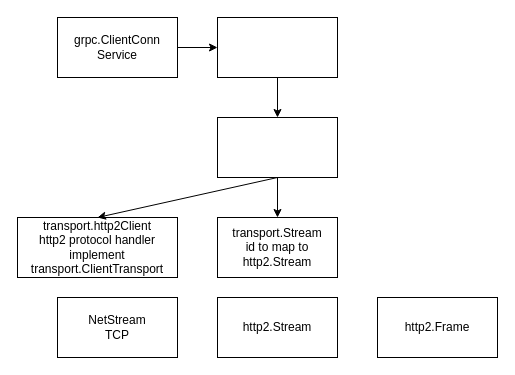
Image size: 515x375. Some labels were removed from this diagram. Here are the shapes that lost their labels. From the top down, the centre of each, then its label:
(x=277, y=47): grpc.ClientStream InstanceStream
(x=277, y=147): grpc.csAttempt
